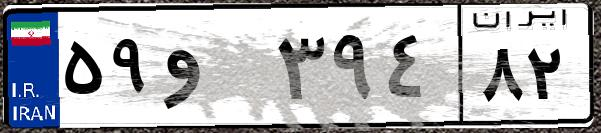2: (525, 38, 570, 115)
3: (270, 28, 330, 110)
4: (385, 28, 445, 110)
5: (57, 26, 110, 100)
8: (475, 38, 525, 113)
9: (330, 28, 385, 110), (110, 28, 158, 98)
و: (158, 20, 270, 120)
